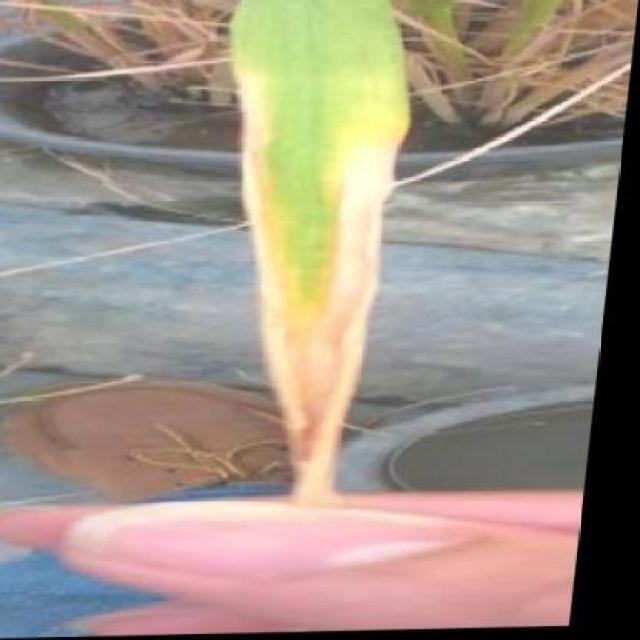Brown_Spot: (212, 0, 418, 369)
